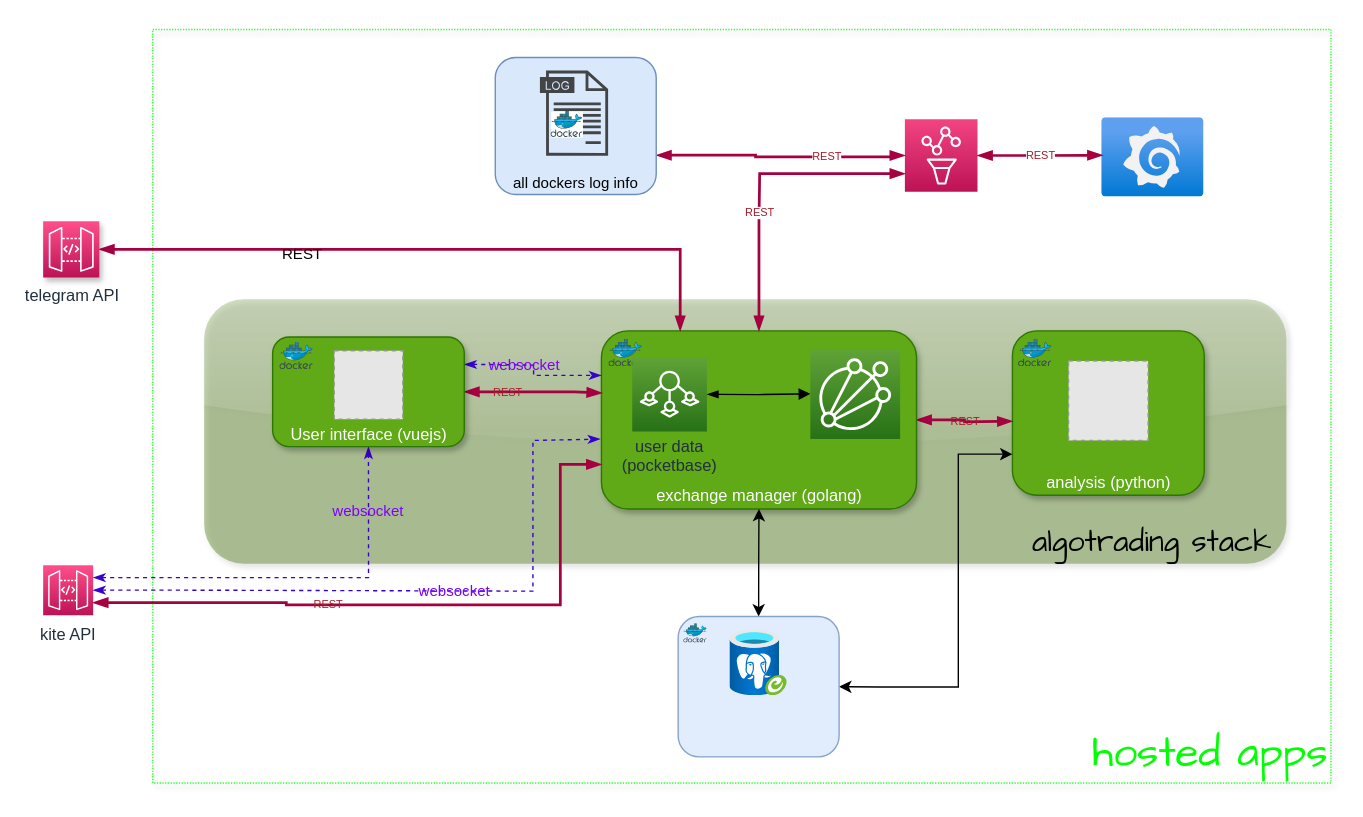
Image size: 1363x817. Some labels were removed from this diagram. Grey dashed boxes stand in for pictures. Here are the shapes that lost their labels. From the top down, the centre of each, then its label:
At [940,155]: "prometheus".
At [1152,157]: "grafana".
At [854,393]: "trade manager".
At [758,662]: "ticker/trades info timescaleDb".
